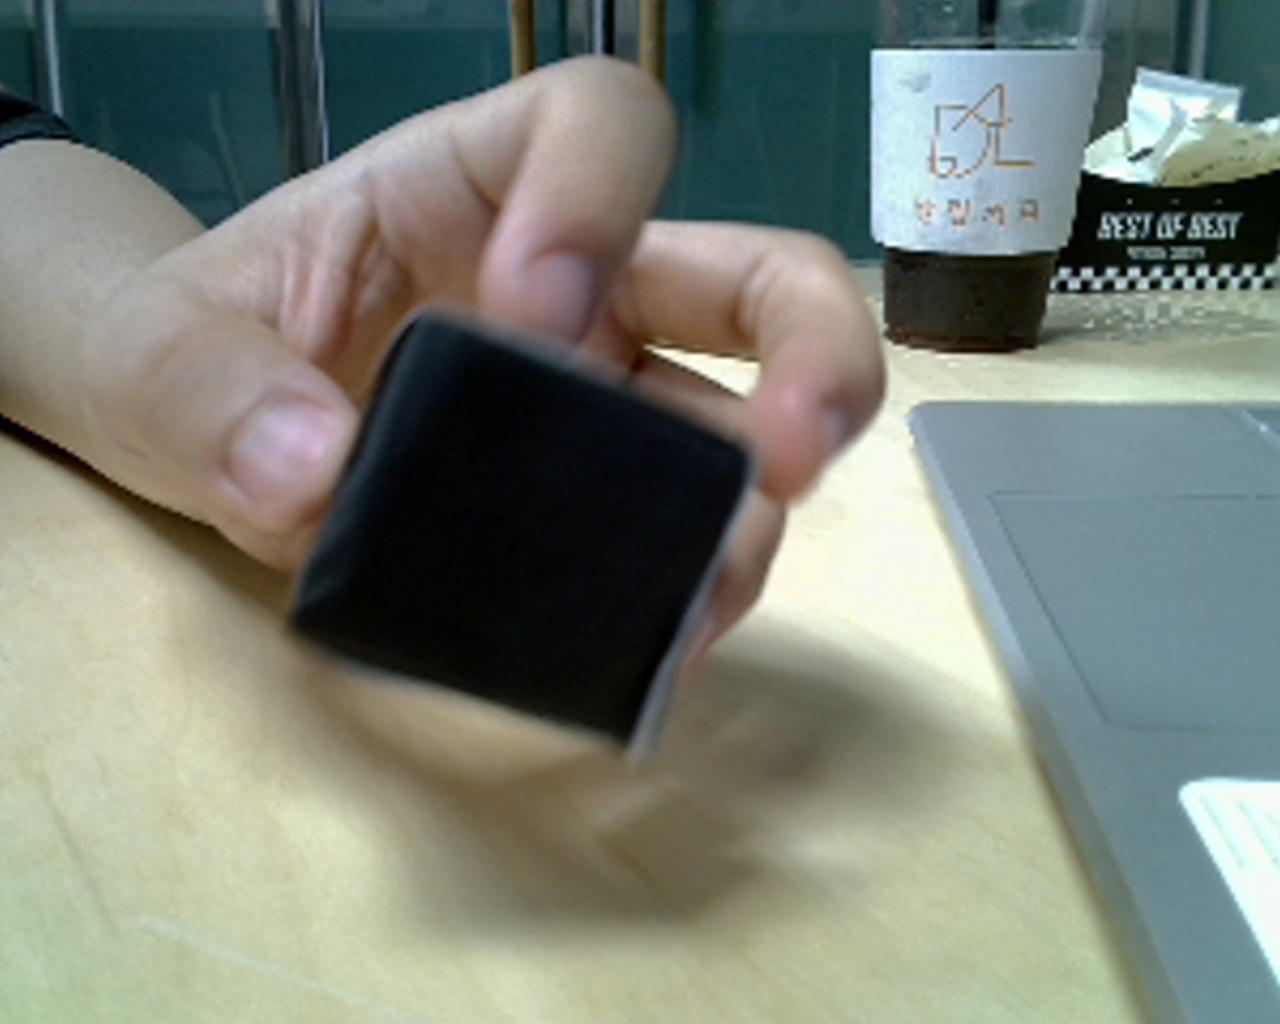blackbox: (270, 267, 787, 809)
